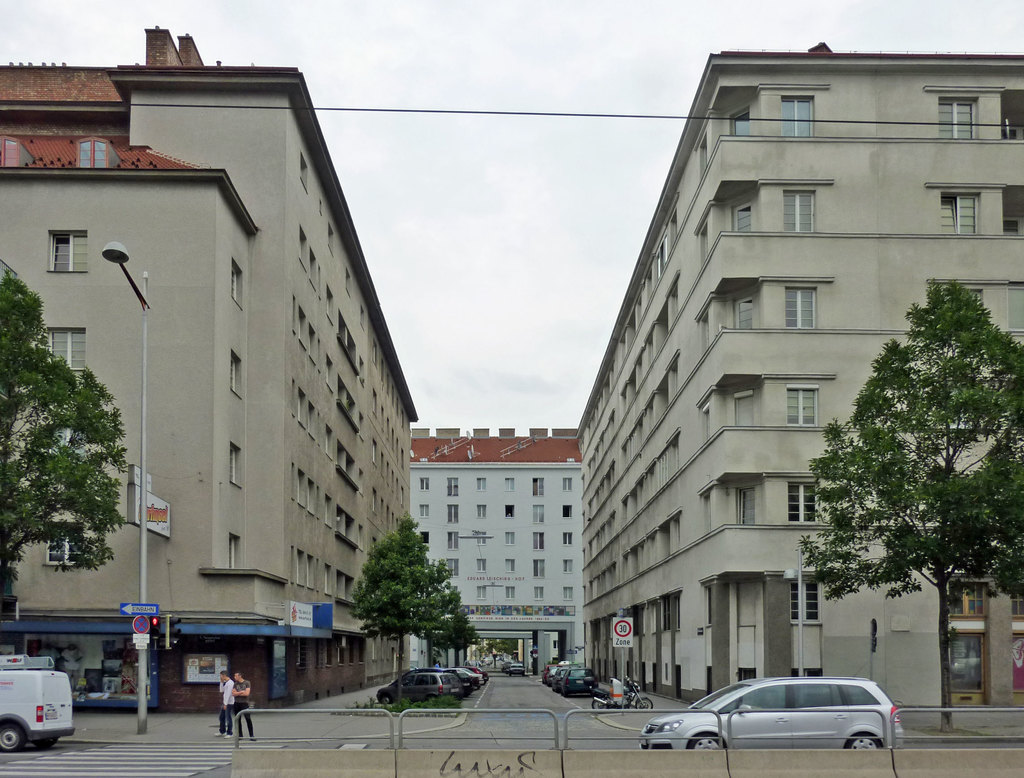Car: (638, 676, 903, 750), (376, 665, 464, 708), (552, 665, 598, 703)
